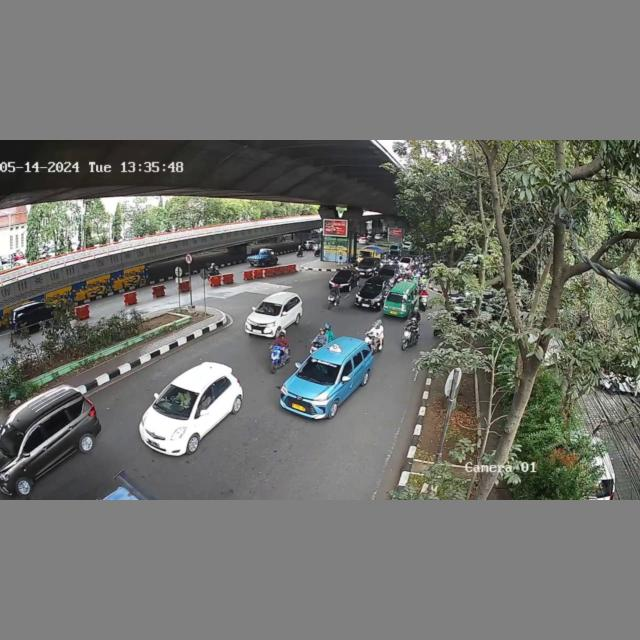windshield: (154, 384, 200, 416), (298, 357, 341, 385), (255, 300, 281, 317), (386, 292, 408, 305), (361, 282, 384, 294)
